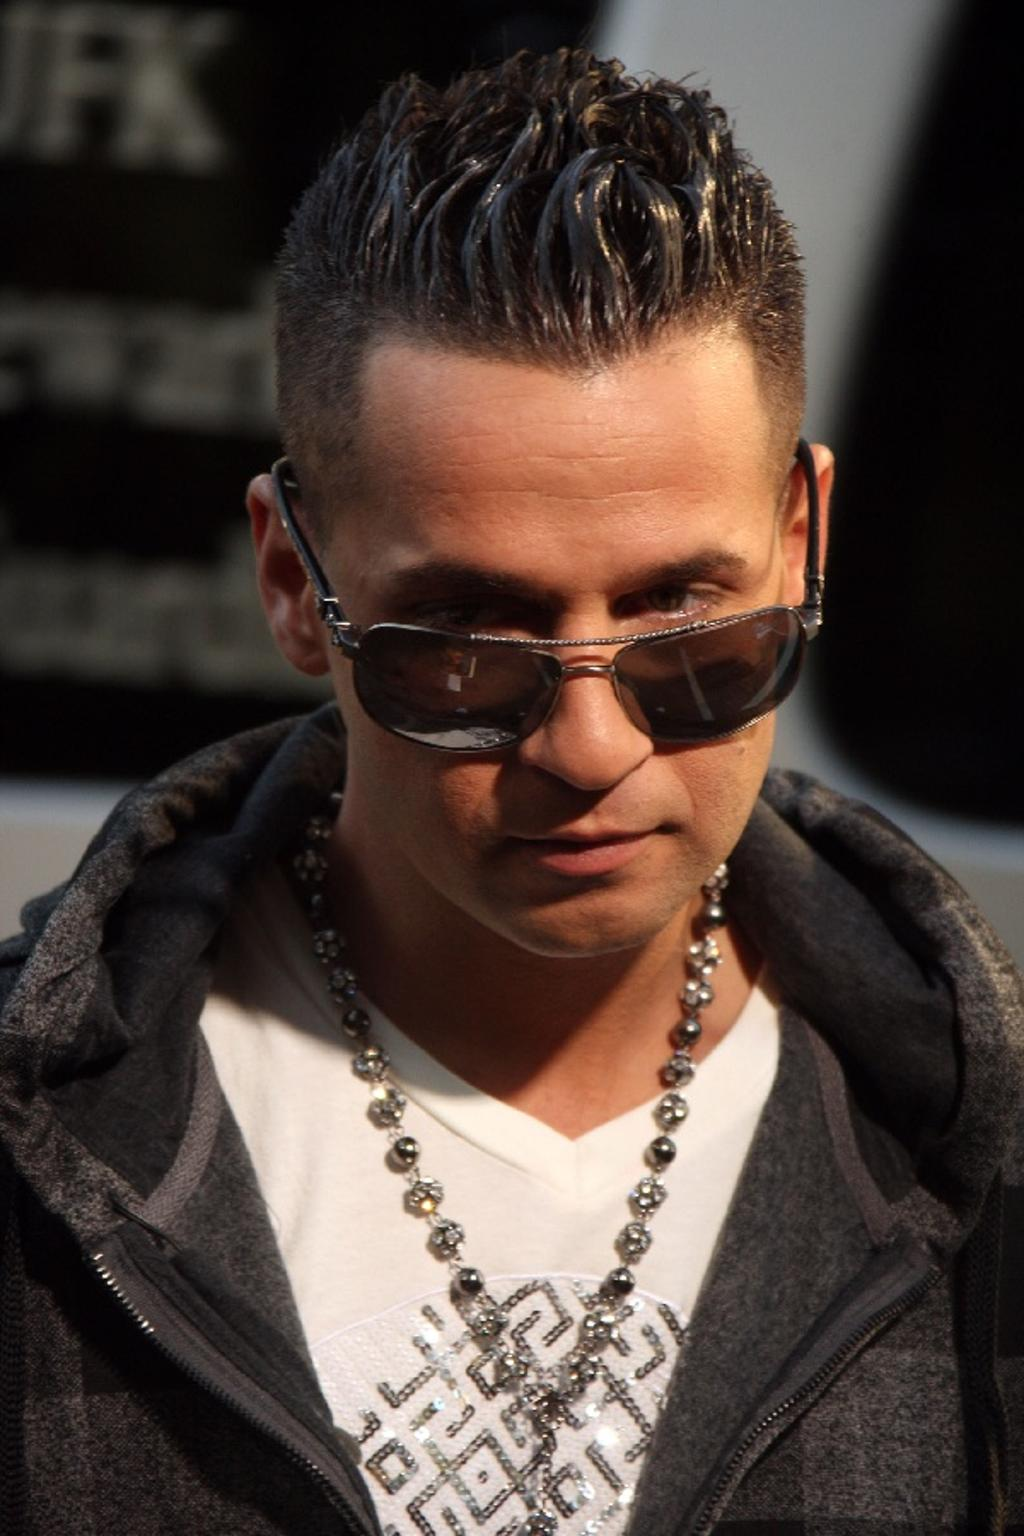face: (312, 312, 801, 952)
